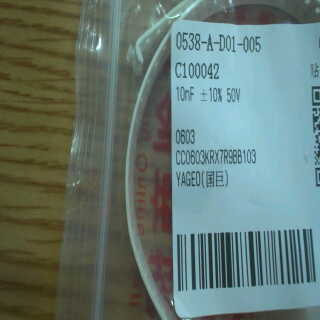10nF: (173, 84, 198, 106)
